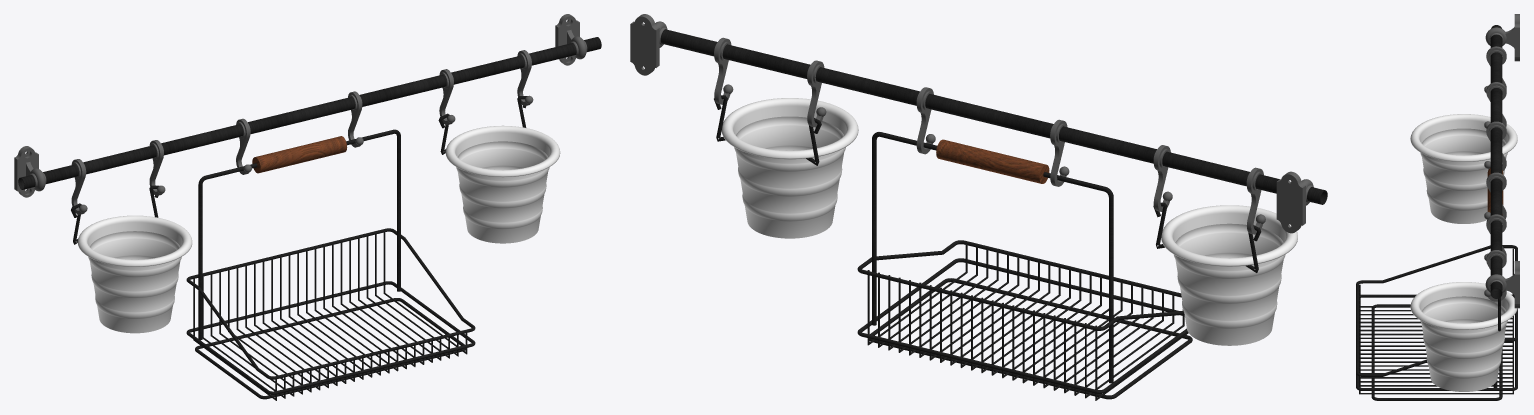
Rendered from 003 - stand divari ikea meshki.glb.
3 views of the same model, side by side, from view 1: azimuth 30°, elevation 25°; view 2: azimuth 150°, elevation 25°; view 3: azimuth 270°, elevation 25° (orthographic). The views are drawn at different scales.
Visible parts, largest first — view 1: Group#61 [118310] (×2), Group#51 [118897], Group#36 [118287], Group#38 [118284], Group#30 [118286], Group#34 [118285], Group#35 [118282], Group#2 [116155] (×2); view 2: Group#61 [118310] (×2), Group#51 [118897], Group#2 [116155] (×2), Group#36 [118287], Group#38 [118284], Group#30 [118286], Group#35 [118282], Group#34 [118285], Group#44 [118299] (×2), Group#42 [117003] (×2), Group#39 [116991] (×2); view 3: Group#61 [118310] (×2), Group#51 [118897], Component#1 [33554] (×12), Group#36 [118287], Group#34 [118285], Group#38 [118284], Group#2 [116155] (×2), Group#39 [116991] (×2), Group#42 [117003] (×2), Group#44 [118299] (×2), Group#4 [116153] (×2).
Part boxes in pixels (box(x1,y1,x2,y2)): Group#61 [118310] (×2): box(77, 125, 560, 333); Group#51 [118897]: box(18, 37, 601, 189); Group#36 [118287]: box(186, 228, 475, 379); Group#38 [118284]: box(186, 281, 475, 394); Group#30 [118286]: box(198, 129, 400, 340); Group#34 [118285]: box(195, 298, 465, 399); Group#35 [118282]: box(252, 136, 347, 173); Group#2 [116155] (×2): box(14, 14, 579, 197); Group#61 [118310] (×2): box(721, 98, 1297, 345); Group#51 [118897]: box(644, 24, 1327, 204); Group#2 [116155] (×2): box(630, 14, 1305, 233); Group#36 [118287]: box(857, 240, 1184, 330); Group#38 [118284]: box(857, 258, 1187, 393); Group#30 [118286]: box(872, 132, 1113, 383); Group#35 [118282]: box(936, 139, 1049, 183); Group#34 [118285]: box(869, 278, 1192, 399); Group#44 [118299] (×2): box(807, 60, 1263, 234); Group#42 [117003] (×2): box(916, 87, 1067, 186); Group#39 [116991] (×2): box(714, 37, 1170, 211); Group#61 [118310] (×2): box(1410, 114, 1517, 391); Group#51 [118897]: box(1490, 25, 1502, 298); Component#1 [33554] (×12): box(1359, 264, 1513, 394); Group#36 [118287]: box(1356, 245, 1517, 376); Group#34 [118285]: box(1371, 304, 1502, 400); Group#38 [118284]: box(1356, 294, 1517, 390); Group#2 [116155] (×2): box(1514, 14, 1519, 308); Group#39 [116991] (×2): box(1486, 82, 1506, 301); Group#42 [117003] (×2): box(1486, 121, 1506, 218); Group#44 [118299] (×2): box(1486, 46, 1506, 256); Group#4 [116153] (×2): box(1485, 27, 1506, 292).
Size of the model in its own units: 0.8 by 0.3117 by 0.2104.
Materials: 6 (2 with a texture image).
